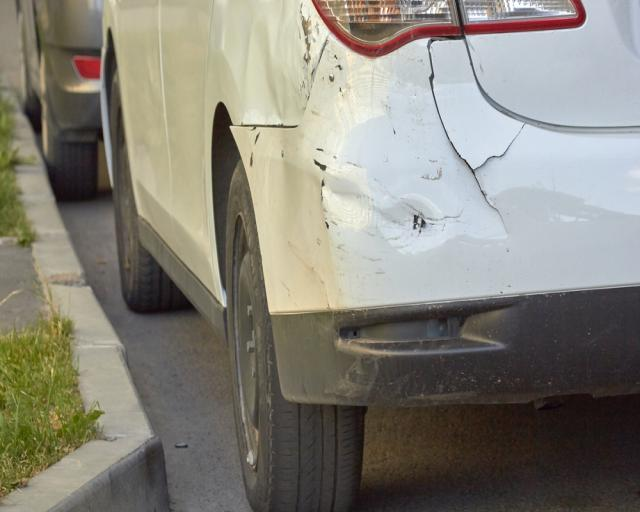crack: (427, 38, 527, 239)
dent: (321, 175, 443, 253), (244, 0, 305, 124)
scratch: (309, 44, 444, 203), (313, 212, 384, 304)
